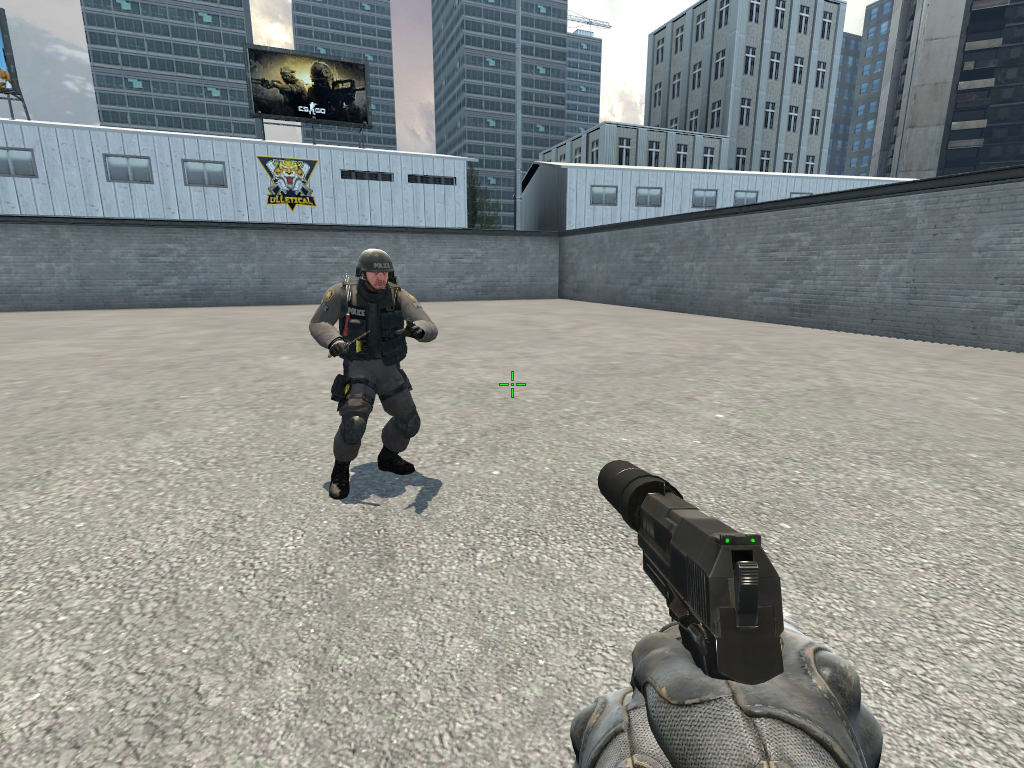ct head: (354, 247, 400, 294)
